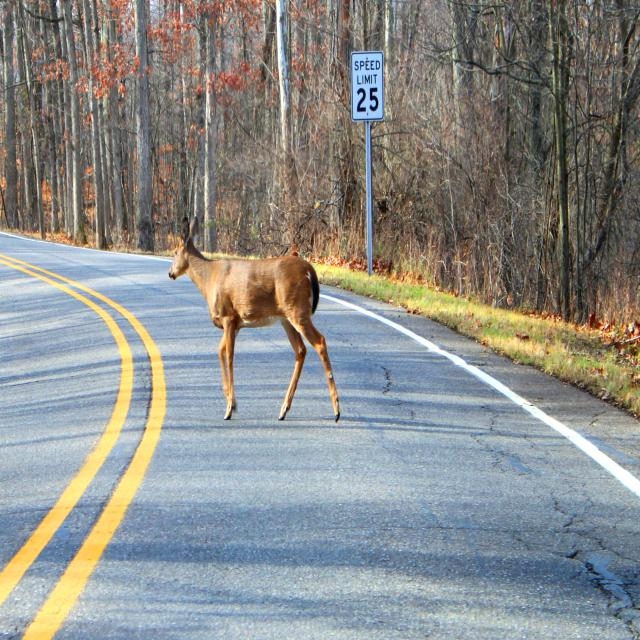speedLimit25: (352, 54, 382, 120)
